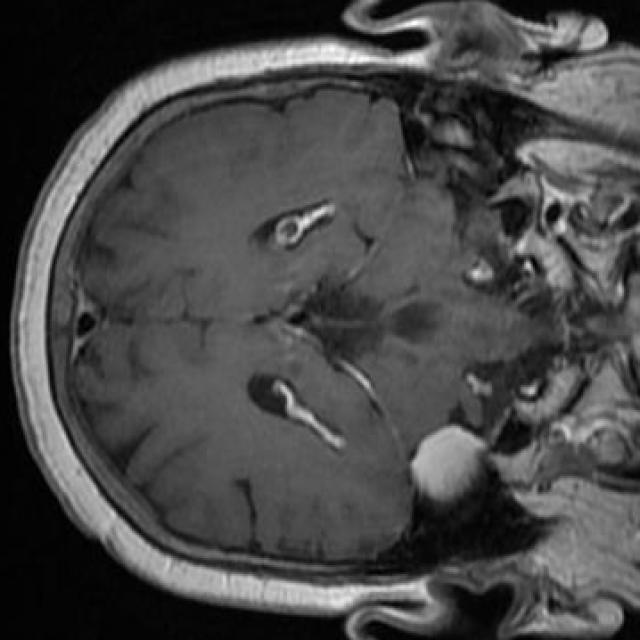meningioma: (410, 426, 487, 501)
